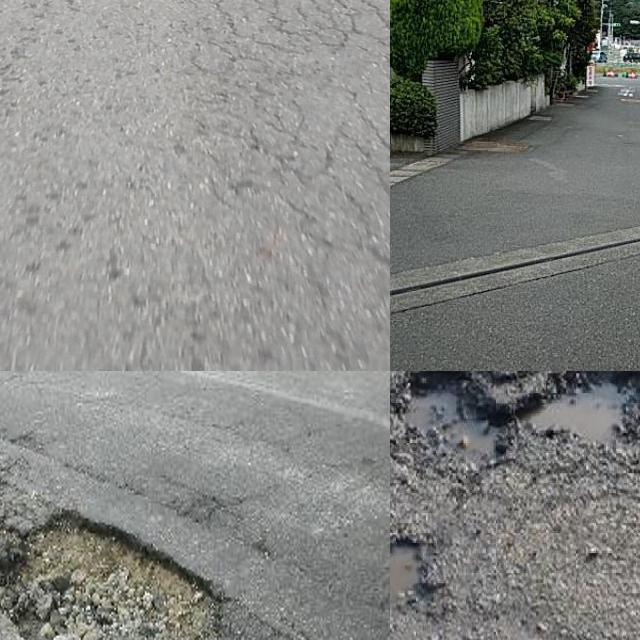Lubang: (0, 518, 228, 640), (398, 371, 640, 457)
Melintang: (390, 226, 640, 308)
Retak Buaya: (207, 0, 390, 337)
